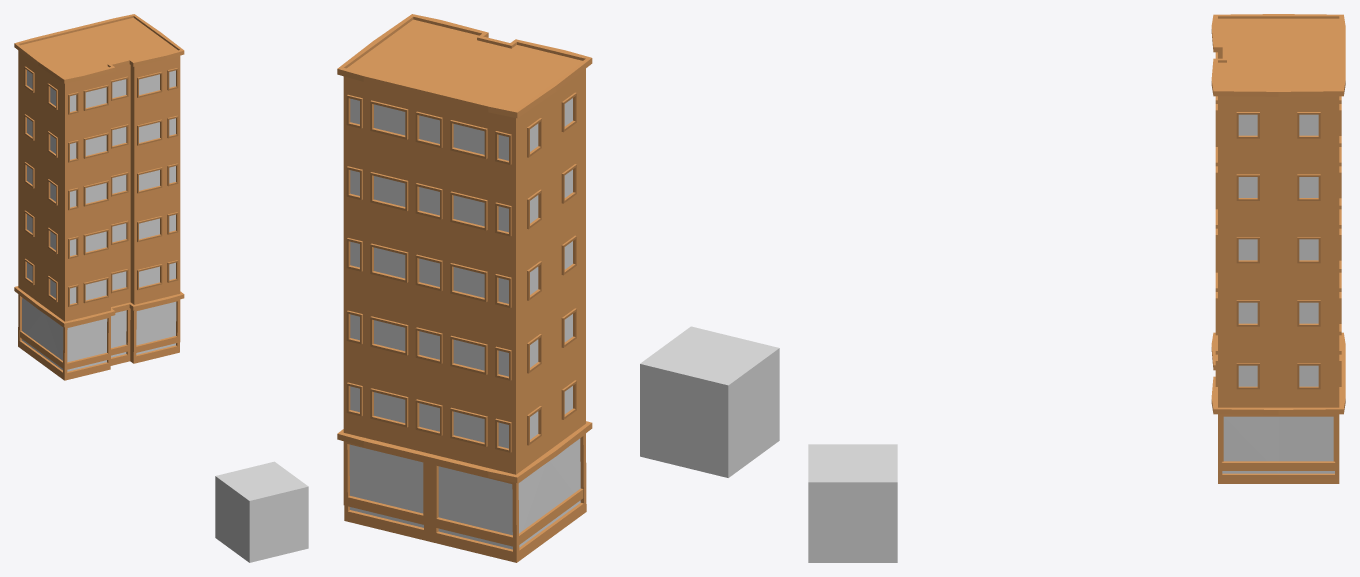
The model's file is MenuBuilding3.dae.
3 renders of one model, left to right at view 1: azimuth 30°, elevation 25°; view 2: azimuth 150°, elevation 25°; view 3: azimuth 270°, elevation 25°, orthographic. The views are drawn at different scales.
Parts seen in each view (by area): view 1: Cube.006, Cube.008, Cube, Cube.007, Cube.004, Cube.009, Cube.001, Cube.005, Cube.003, Cube.002; view 2: Cube.006, Cube.007, Cube, Cube.008, Cube.004, Cube.009, Cube.001, Cube.005, Cube.003, Cube.002; view 3: Cube.005, Cube.004, Cube.008, Cube.006, Cube, Cube.007, Cube.009, Cube.001, Cube.003, Cube.002.
Boxes of the visible parts, x1,y1,x2,y2 form: Cube.006: [18, 191, 180, 272]; Cube.008: [18, 95, 180, 177]; Cube: [18, 240, 180, 321]; Cube.007: [18, 143, 180, 224]; Cube.004: [215, 461, 308, 562]; Cube.009: [18, 50, 180, 128]; Cube.001: [18, 294, 180, 380]; Cube.005: [14, 14, 184, 83]; Cube.003: [19, 288, 180, 370]; Cube.002: [14, 286, 184, 327]; Cube.006: [343, 279, 585, 402]; Cube.007: [343, 206, 585, 329]; Cube: [343, 352, 585, 474]; Cube.008: [343, 136, 585, 257]; Cube.004: [640, 326, 779, 477]; Cube.009: [343, 68, 585, 186]; Cube.001: [344, 433, 586, 562]; Cube.005: [337, 14, 592, 118]; Cube.003: [343, 423, 585, 546]; Cube.002: [337, 421, 592, 483]; Cube.005: [1211, 14, 1345, 96]; Cube.004: [808, 444, 897, 562]; Cube.008: [1215, 136, 1341, 219]; Cube.006: [1215, 260, 1341, 344]; Cube: [1215, 324, 1341, 407]; Cube.007: [1215, 198, 1341, 281]; Cube.009: [1215, 52, 1341, 156]; Cube.001: [1218, 415, 1339, 483]; Cube.003: [1218, 407, 1339, 470]; Cube.002: [1211, 332, 1345, 414].
Size of the model in its own units: 4.13 by 12.05 by 12.16.
